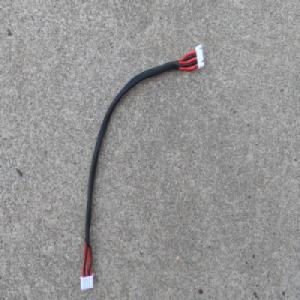Wire: (77, 41, 205, 291)
